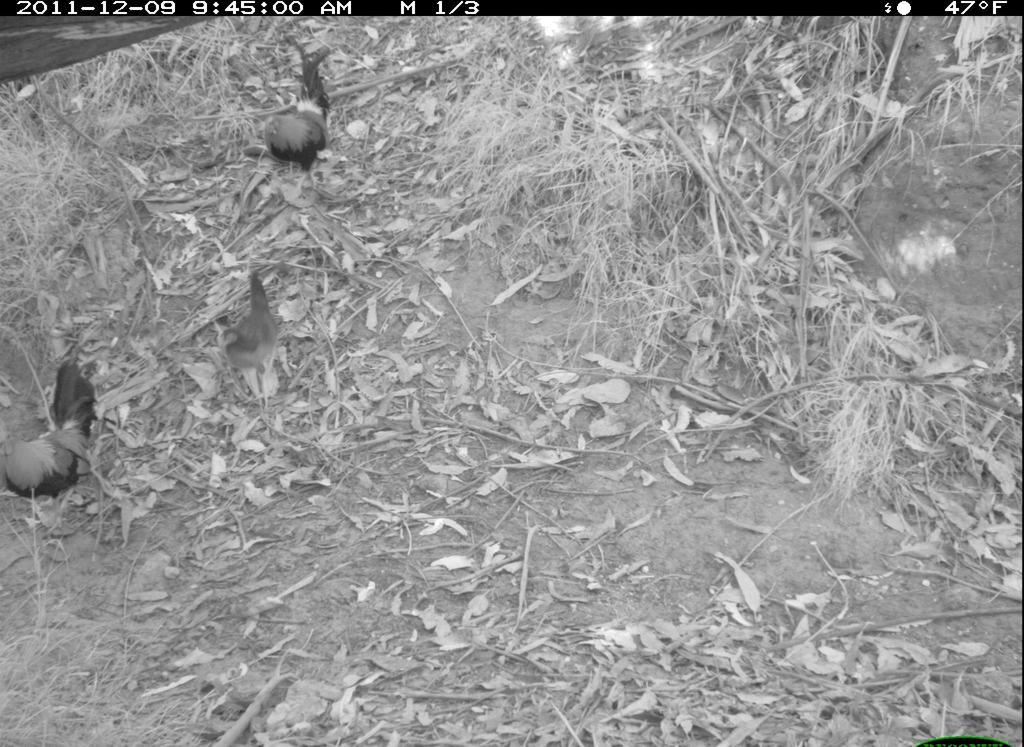bird: (1, 351, 114, 545), (256, 29, 344, 209), (205, 264, 296, 425)
